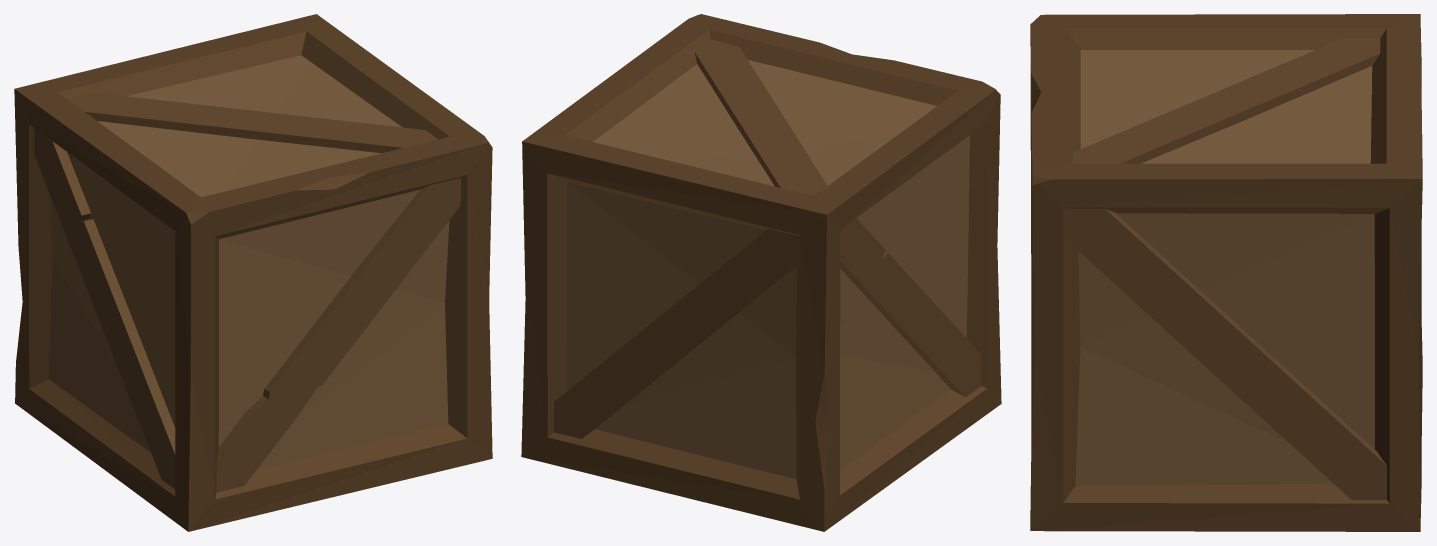
The picture shows the model from 3 angles, left to right: view 1: azimuth 30°, elevation 25°; view 2: azimuth 150°, elevation 25°; view 3: azimuth 270°, elevation 25°; orthographic projection. The views are drawn at different scales.
Visible parts, largest first — view 1: Box_01; view 2: Box_01; view 3: Box_01.
Part boxes in pixels (x1,y1,x2,y2): Box_01: (14,14,492,531); Box_01: (521,14,1001,531); Box_01: (1030,14,1422,531).
Size of the model in its own units: 0.7436 by 0.7401 by 0.7437.
Materials: 1 (1 with a texture image).
